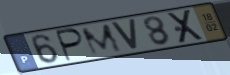6: (30, 32, 61, 66)
8: (143, 15, 173, 47)
M: (79, 22, 125, 58)
P: (56, 27, 87, 64)
V: (109, 18, 141, 51)
X: (165, 7, 207, 45)
